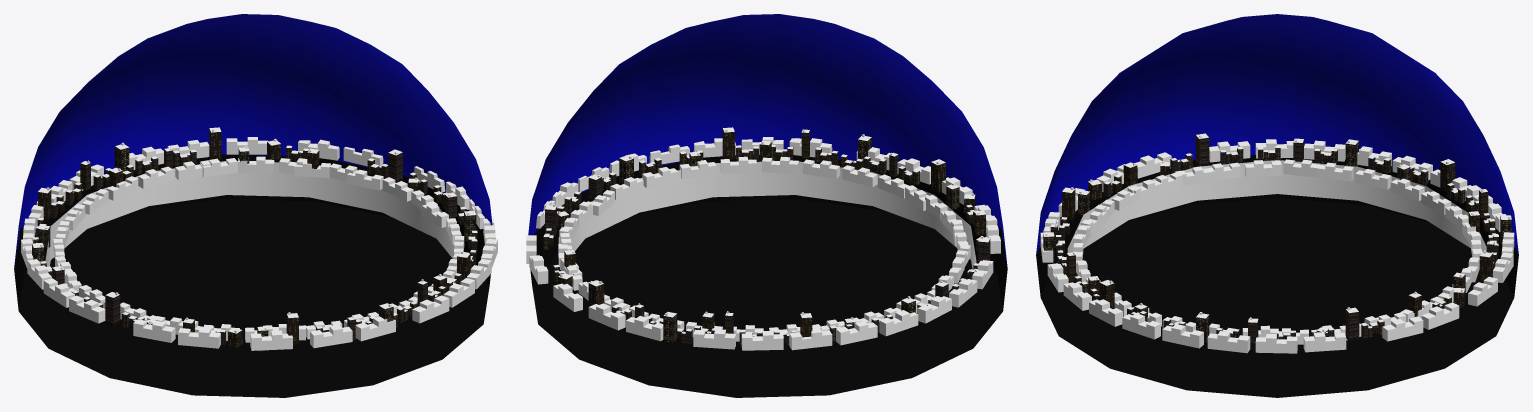
File: SKY_DOOM.glb
The picture shows the model from 3 angles, left to right: view 1: azimuth 30°, elevation 25°; view 2: azimuth 150°, elevation 25°; view 3: azimuth 270°, elevation 25°; orthographic projection.
Parts seen in each view (by area): view 1: obj1; view 2: obj1; view 3: obj1.
Boxes of the visible parts, left/top/right/bottom form: obj1: left=14, top=14, right=497, bottom=397; obj1: left=526, top=14, right=1007, bottom=397; obj1: left=1036, top=14, right=1518, bottom=397.
Bounding box in the file's own units: 1384 × 825 × 1380.
6 materials, 5 textured.
